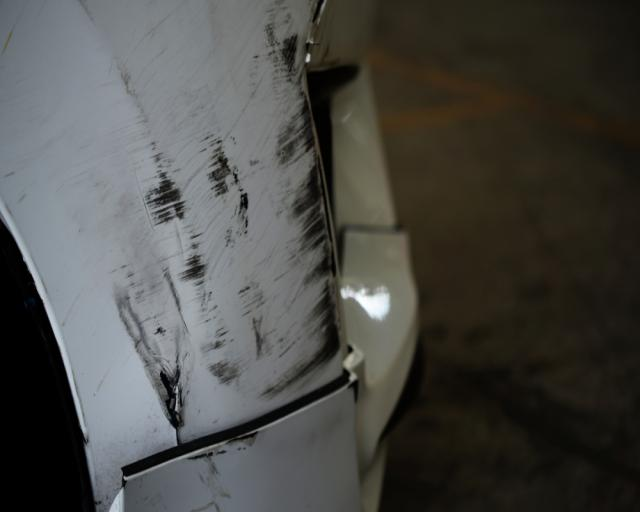scratch: (0, 0, 342, 439), (188, 433, 260, 512)
